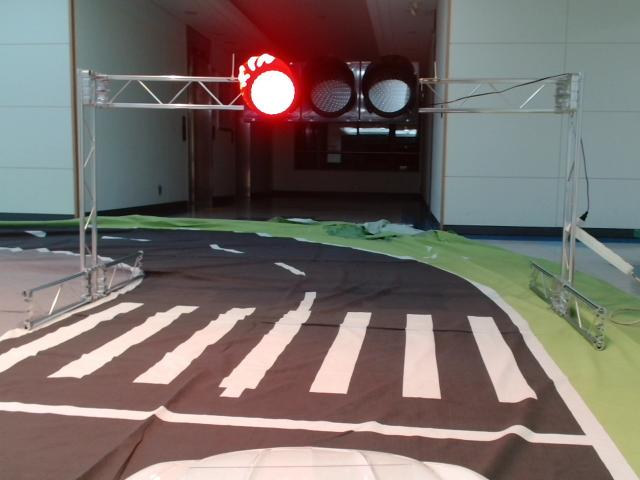crosswalk: (1, 301, 542, 404)
traffic light-red-: (237, 55, 420, 126)
